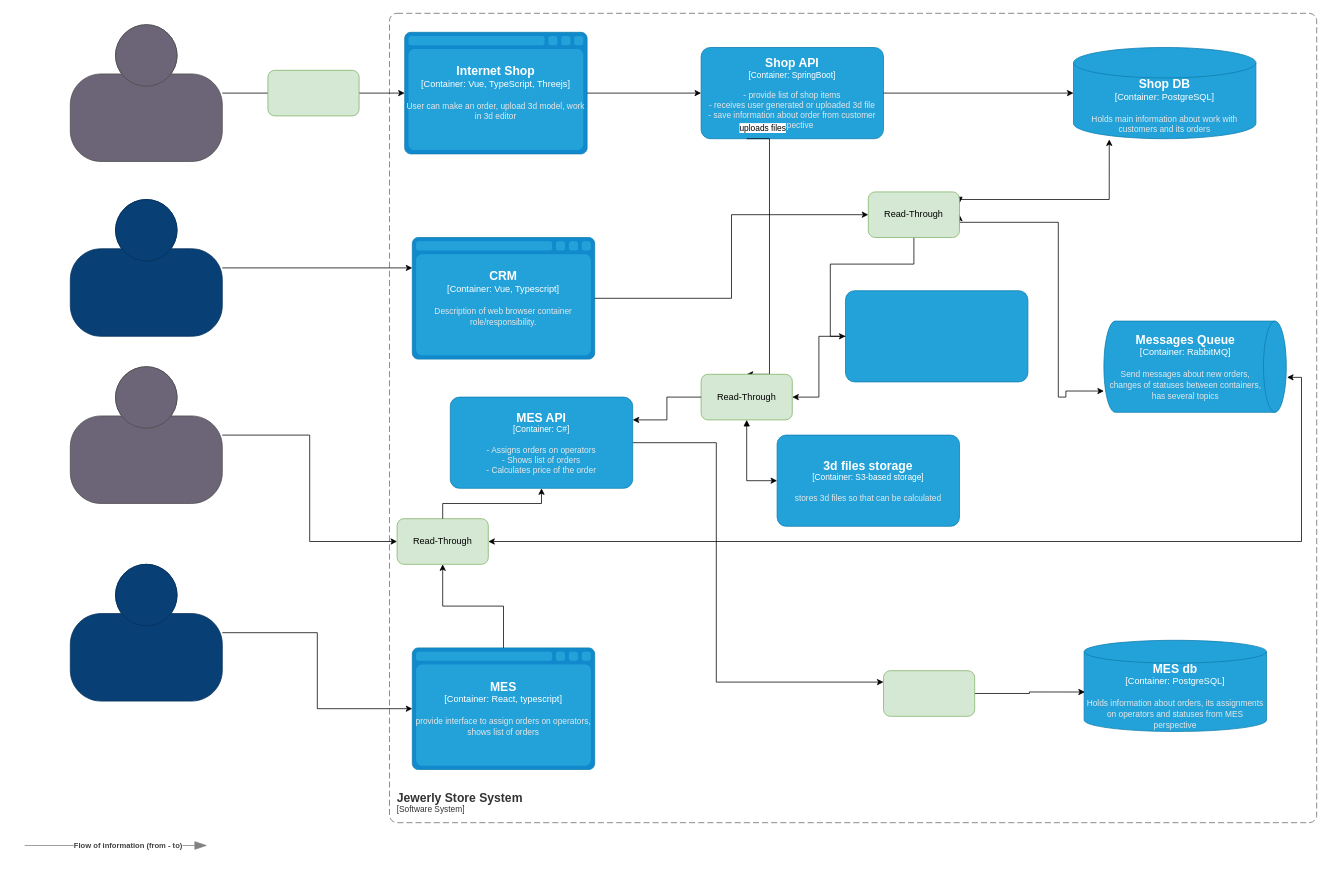
Some shapes in this 1330 by 871 pixel diagram are drawn without their labels. The shapes that lost their labels are listed below. From the top down, each one's box as (x1, y1, x2, y2) in pixels, then its label:
(70, 24, 222, 162): Customer [Person] Description of external person.
(267, 70, 359, 116): Cache-Aside
(70, 199, 222, 336): Seller [Person] Operates with order, confirms manufacturing for the user
(845, 290, 1028, 382): CRM API [Container: SpringBoot] Description of container role/responsibility.
(70, 366, 222, 504): API user [Person] Description of external person.
(70, 564, 222, 701): Operator [Person] Takes order in work, manufactures jewerly
(883, 670, 975, 716): Write-Through
